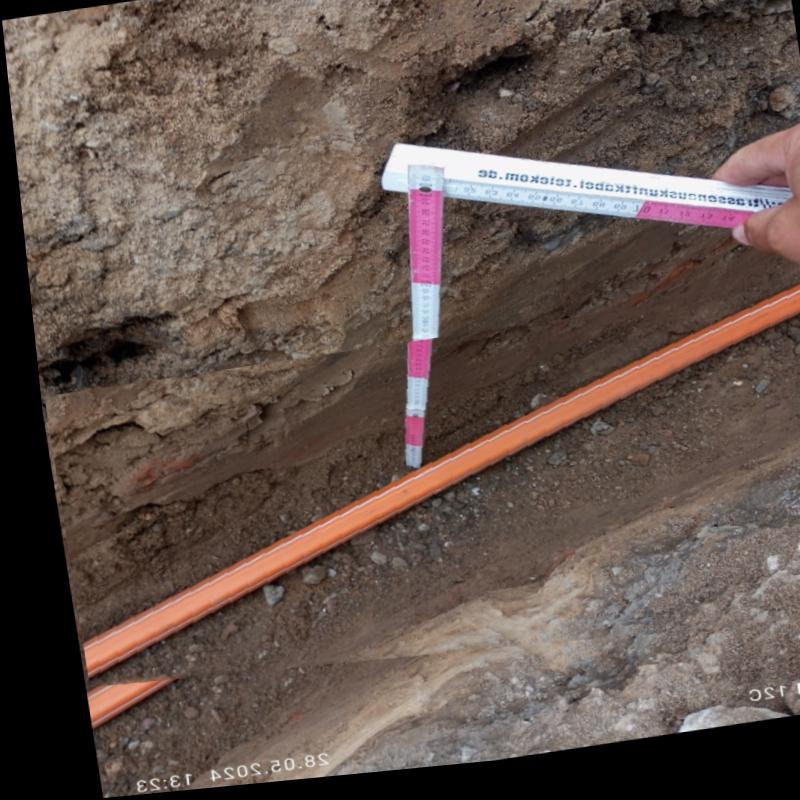Orang-Speednetrohrchen: (71, 301, 800, 689)
